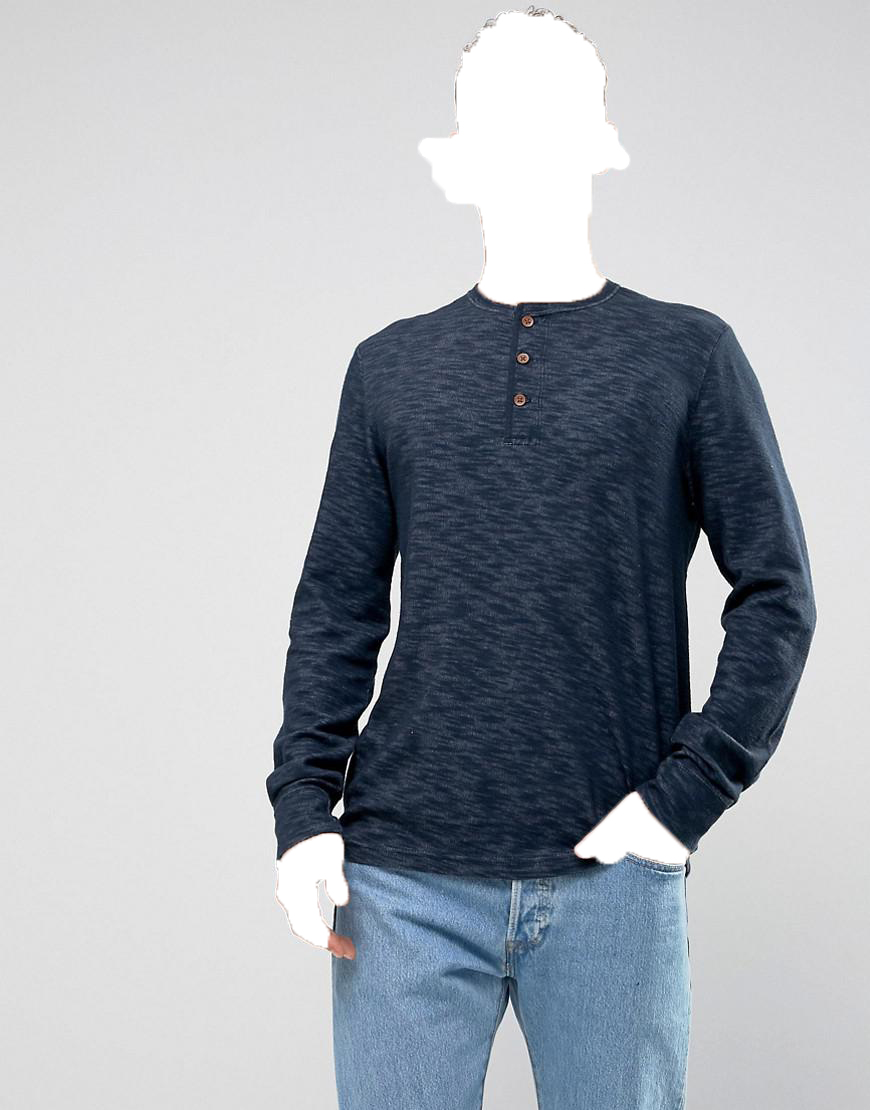teeshirt: (262, 281, 824, 893)
